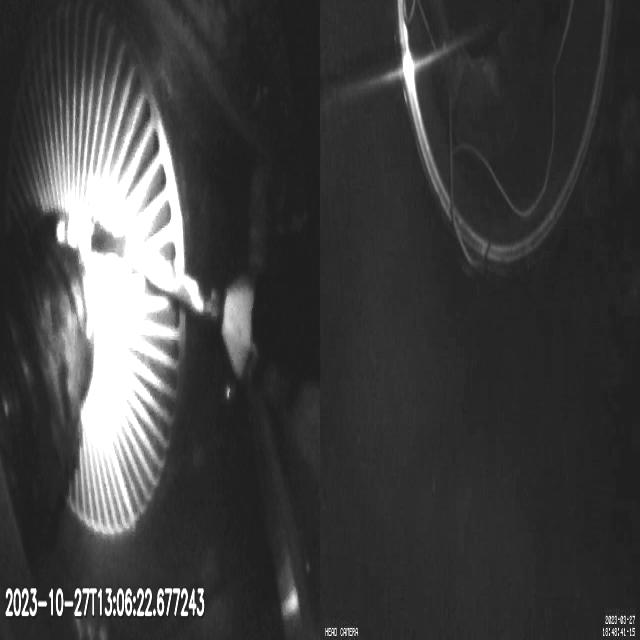head: (223, 284, 259, 369)
